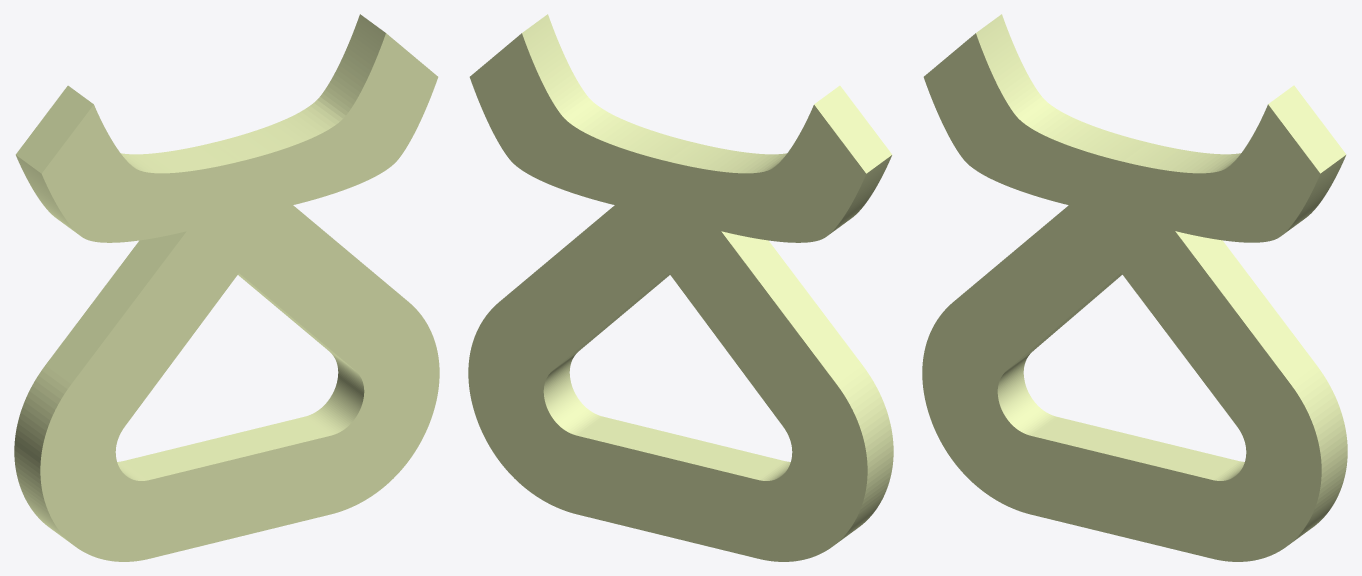
The model's file is bull-lNLAayXP.glb.
3 renders of one model, left to right at view 1: azimuth 30°, elevation 25°; view 2: azimuth 150°, elevation 25°; view 3: azimuth 330°, elevation 25°, orthographic.
Visible parts, largest first — view 1: world; view 2: world; view 3: world.
Part boxes in pixels (box(x1,y1,x2,y2)): world: box(14, 14, 439, 561); world: box(468, 14, 893, 561); world: box(922, 14, 1347, 561).
Bounding box in the file's own units: 0.8927 × 1 × 0.1008.
